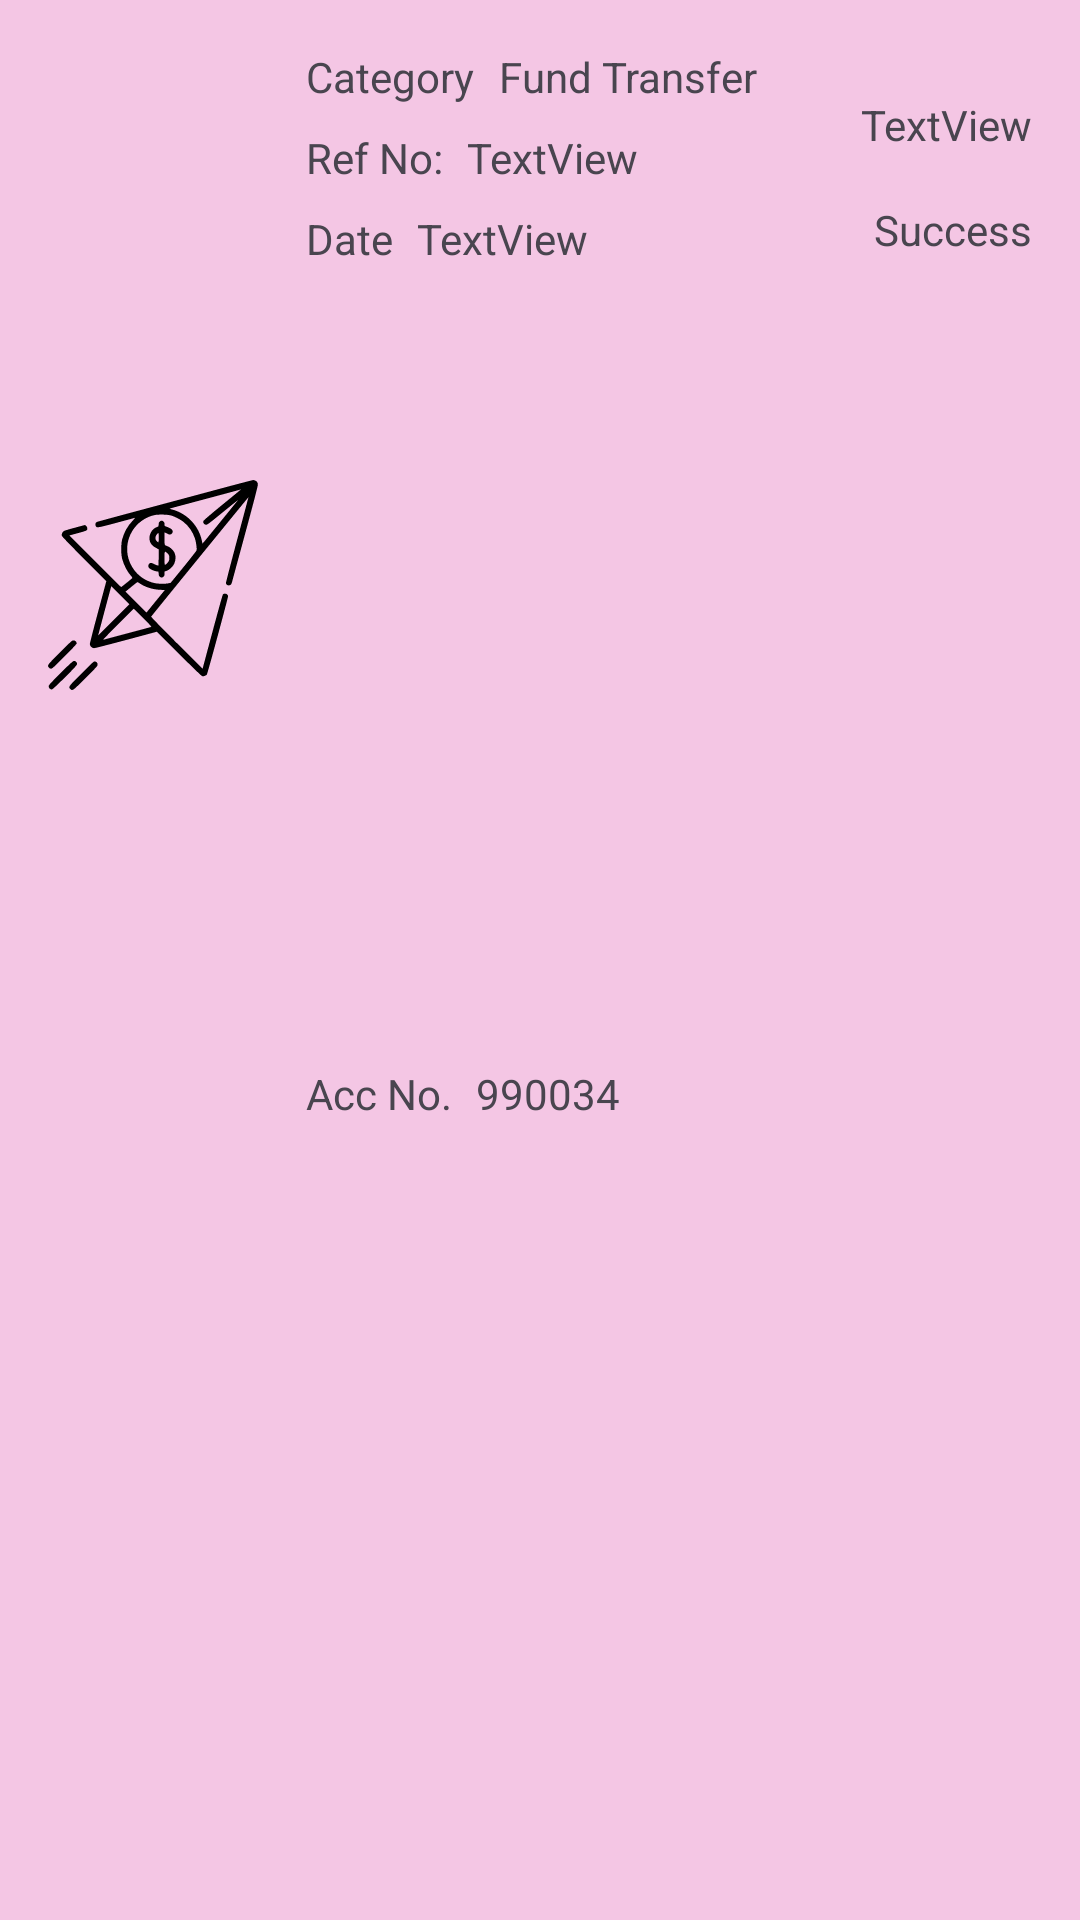

Icon click points for this 1080w x 1920h phone screenshot, format (x,y):
fund transfer: (153,585)
